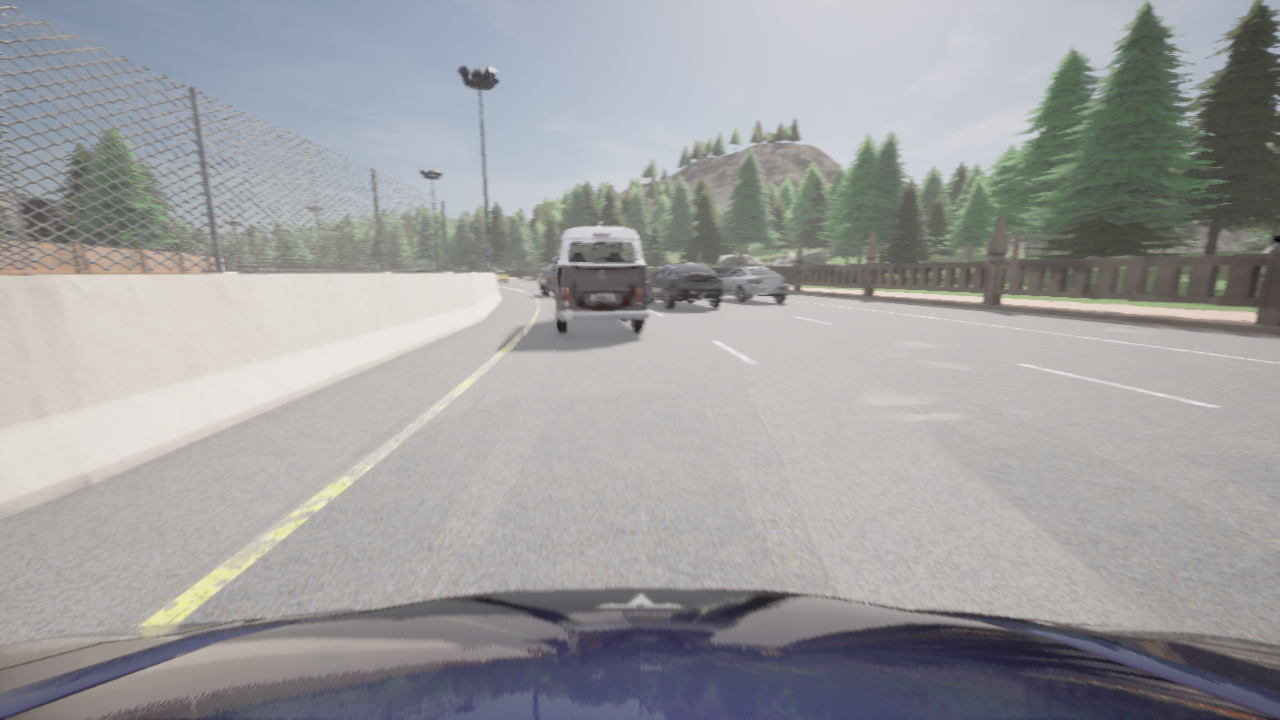cyclist: (0, 588, 1279, 719), (552, 227, 648, 333), (647, 263, 722, 308), (720, 266, 788, 303), (539, 264, 555, 297), (494, 271, 507, 284), (538, 270, 545, 281)
